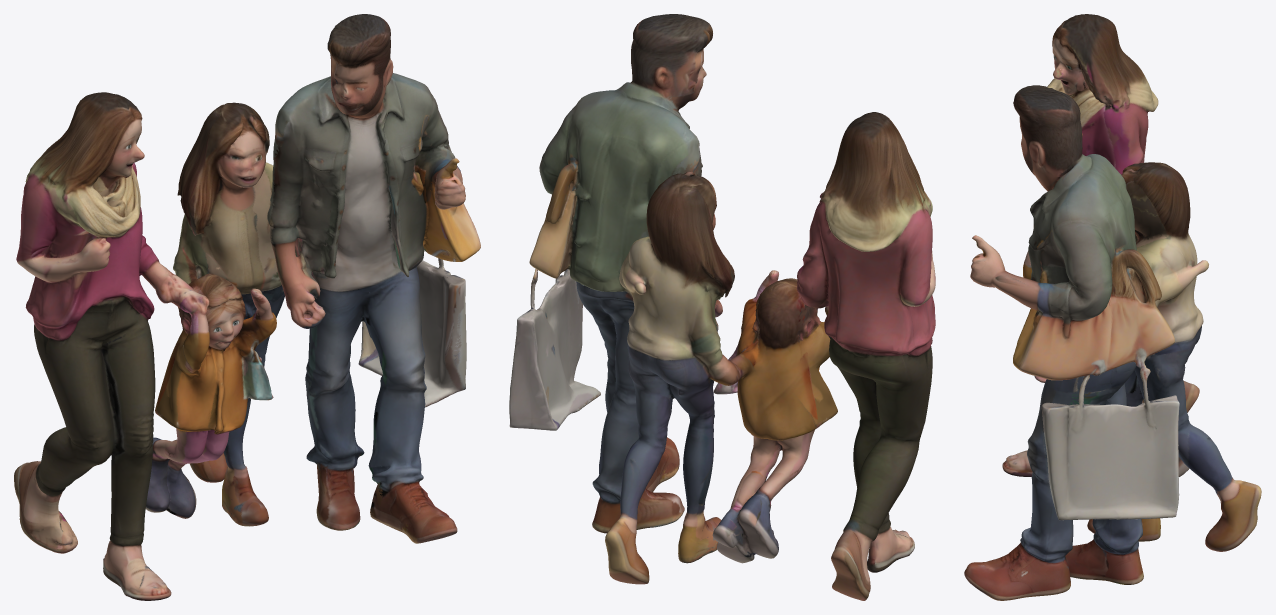
Rendered from orang bertiga.glb.
3 views of the same model, side by side, from view 1: azimuth 30°, elevation 25°; view 2: azimuth 150°, elevation 25°; view 3: azimuth 270°, elevation 25° (orthographic). The views are drawn at different scales.
Bounding box in the file's own units: 1.71 × 2 × 1.13.
1 material, 1 textured.
